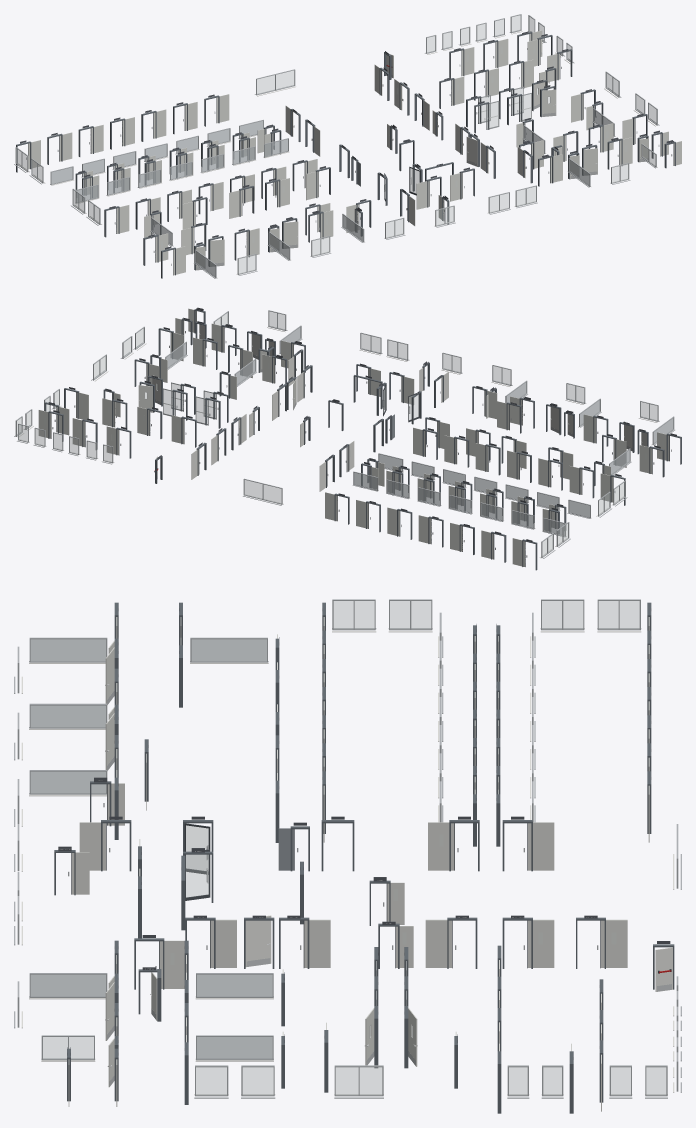
The model's file is 26_n2_puertas.glb.
3 views of the same model, one above another, from view 1: azimuth 30°, elevation 25°; view 2: azimuth 150°, elevation 25°; view 3: azimuth 270°, elevation 25° (orthographic). The views are drawn at different scales.
Visible parts, largest first — view 1: Ventana N2 · 126, Puerta N2 · 16, Puerta N2 · 74, Puerta N2 · 08, Puerta N2 · 47, Puerta N2 · 01, Puerta N2 · 30, Puerta N2 · 31, Puerta N2 · 29, Puerta N2 · 65, Puerta N2 · 13, Puerta N2 · 46 (+28 smaller); view 2: Ventana N2 · 126, Puerta N2 · 32, Puerta N2 · 17, Puerta N2 · 21, Puerta N2 · 05, Puerta N2 · 78, Puerta N2 · 69, Puerta N2 · 04, Puerta N2 · 82, Puerta N2 · 00, Puerta N2 · 16, Puerta N2 · 79 (+27 smaller); view 3: Ventana N2 · 113, Ventana N2 · 114, Ventana N2 · 118, Ventana N2 · 112, Ventana N2 · 117, Ventana N2 · 116, Ventana N2 · 115, Ventana N2 · 130, Puerta N2 · 89, Puerta N2 · 87, Puerta N2 · 91, Puerta N2 · 52 (+23 smaller).
Part boxes in pixels (bbox=[...]): Ventana N2 · 126: bbox=[255, 69, 295, 96]; Puerta N2 · 16: bbox=[141, 109, 166, 141]; Puerta N2 · 74: bbox=[540, 86, 556, 117]; Puerta N2 · 08: bbox=[78, 124, 103, 156]; Puerta N2 · 47: bbox=[229, 186, 254, 218]; Puerta N2 · 01: bbox=[104, 205, 129, 237]; Puerta N2 · 30: bbox=[234, 228, 259, 260]; Puerta N2 · 31: bbox=[282, 218, 298, 248]; Puerta N2 · 29: bbox=[208, 236, 224, 266]; Puerta N2 · 65: bbox=[607, 137, 632, 169]; Puerta N2 · 13: bbox=[198, 182, 223, 214]; Puerta N2 · 46: bbox=[182, 197, 207, 229]; Ventana N2 · 126: bbox=[243, 478, 283, 505]; Puerta N2 · 32: bbox=[639, 445, 664, 477]; Puerta N2 · 17: bbox=[475, 443, 500, 475]; Puerta N2 · 21: bbox=[444, 435, 469, 467]; Puerta N2 · 05: bbox=[569, 466, 594, 498]; Puerta N2 · 78: bbox=[137, 406, 162, 438]; Puerta N2 · 69: bbox=[195, 396, 220, 428]; Puerta N2 · 04: bbox=[481, 530, 506, 562]; Puerta N2 · 82: bbox=[106, 426, 131, 458]; Puerta N2 · 00: bbox=[512, 538, 537, 570]; Puerta N2 · 16: bbox=[387, 507, 412, 539]; Puerta N2 · 79: bbox=[102, 398, 127, 429]; Ventana N2 · 113: bbox=[29, 637, 107, 663]; Ventana N2 · 114: bbox=[29, 703, 107, 729]; Ventana N2 · 118: bbox=[29, 973, 107, 999]; Ventana N2 · 112: bbox=[190, 637, 268, 663]; Ventana N2 · 117: bbox=[195, 1035, 273, 1061]; Ventana N2 · 116: bbox=[195, 973, 273, 999]; Ventana N2 · 115: bbox=[29, 770, 107, 796]; Ventana N2 · 130: bbox=[334, 1065, 383, 1098]; Puerta N2 · 89: bbox=[502, 820, 554, 871]; Puerta N2 · 87: bbox=[425, 917, 477, 968]; Puerta N2 · 91: bbox=[502, 917, 554, 968]; Puerta N2 · 52: bbox=[279, 917, 330, 968].
Bounding box in the file's own units: 50.11 × 2.65 × 30.11.
16 materials, 1 textured.
